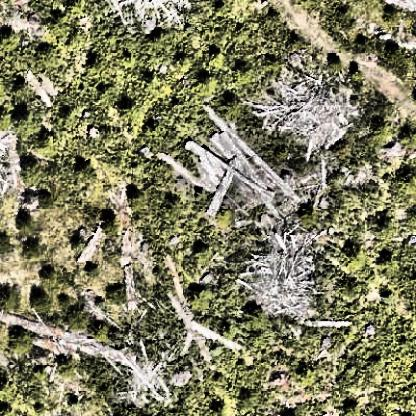tree-top: (5, 325, 41, 359), (380, 43, 416, 77), (19, 121, 52, 152), (19, 157, 51, 188), (187, 285, 218, 314), (14, 109, 42, 140), (393, 168, 416, 205), (37, 134, 65, 162), (40, 265, 67, 292), (193, 69, 218, 98), (120, 100, 147, 125), (32, 281, 55, 309), (90, 319, 115, 344), (99, 214, 123, 239), (14, 211, 38, 236), (77, 155, 101, 180), (126, 186, 149, 211), (248, 305, 269, 332), (22, 238, 45, 262), (232, 60, 255, 84), (31, 291, 53, 316), (1, 28, 20, 54), (216, 207, 238, 229), (58, 353, 80, 375), (335, 140, 357, 162), (108, 282, 130, 304), (40, 190, 63, 211), (1, 287, 19, 313), (193, 240, 215, 261), (174, 54, 194, 75), (79, 260, 101, 279), (151, 28, 170, 50), (299, 205, 317, 228), (401, 126, 416, 151), (222, 91, 241, 110), (79, 50, 97, 70), (346, 244, 365, 262), (293, 2, 327, 12), (299, 363, 315, 384), (385, 7, 401, 28), (2, 109, 17, 131), (327, 53, 341, 69)
